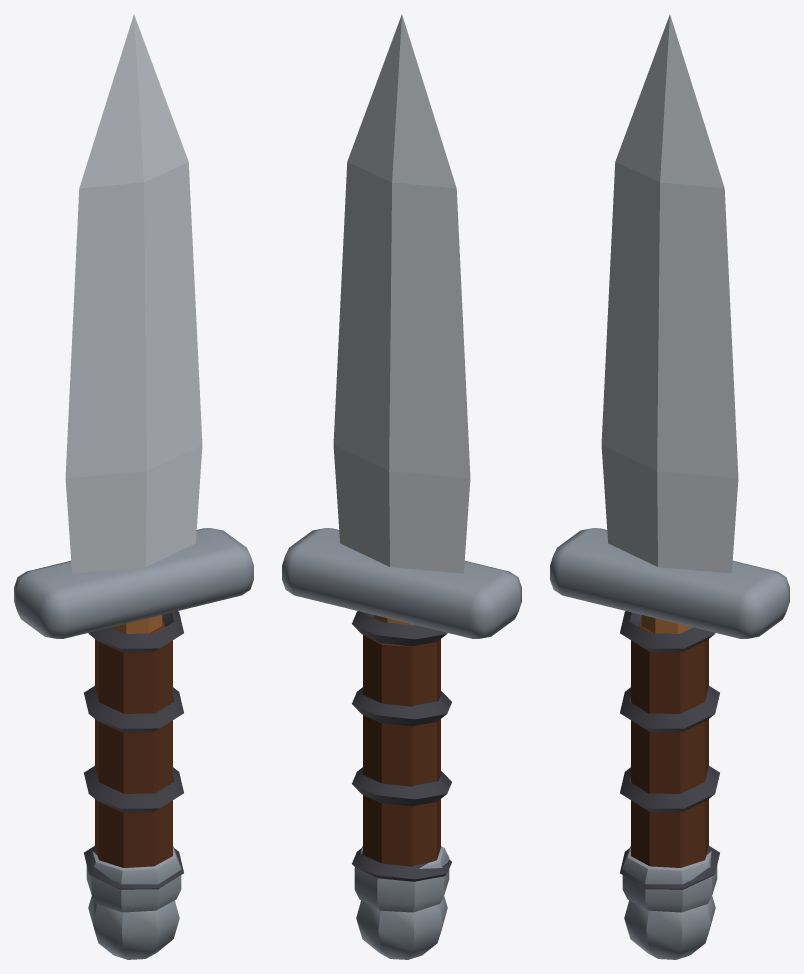
File: IronDagger.fbx
3 renders of one model, left to right at view 1: azimuth 30°, elevation 25°; view 2: azimuth 150°, elevation 25°; view 3: azimuth 330°, elevation 25°, orthographic.
Visible parts, largest first — view 1: IronDagger; view 2: IronDagger; view 3: IronDagger.
Boxes of the visible parts, x1,y1,x2,y2 form: IronDagger: (14, 14, 253, 959); IronDagger: (282, 14, 521, 959); IronDagger: (550, 14, 789, 959).
Size of the model in its own units: 0.62 by 2.63 by 0.2614.
1 material, 1 textured.
